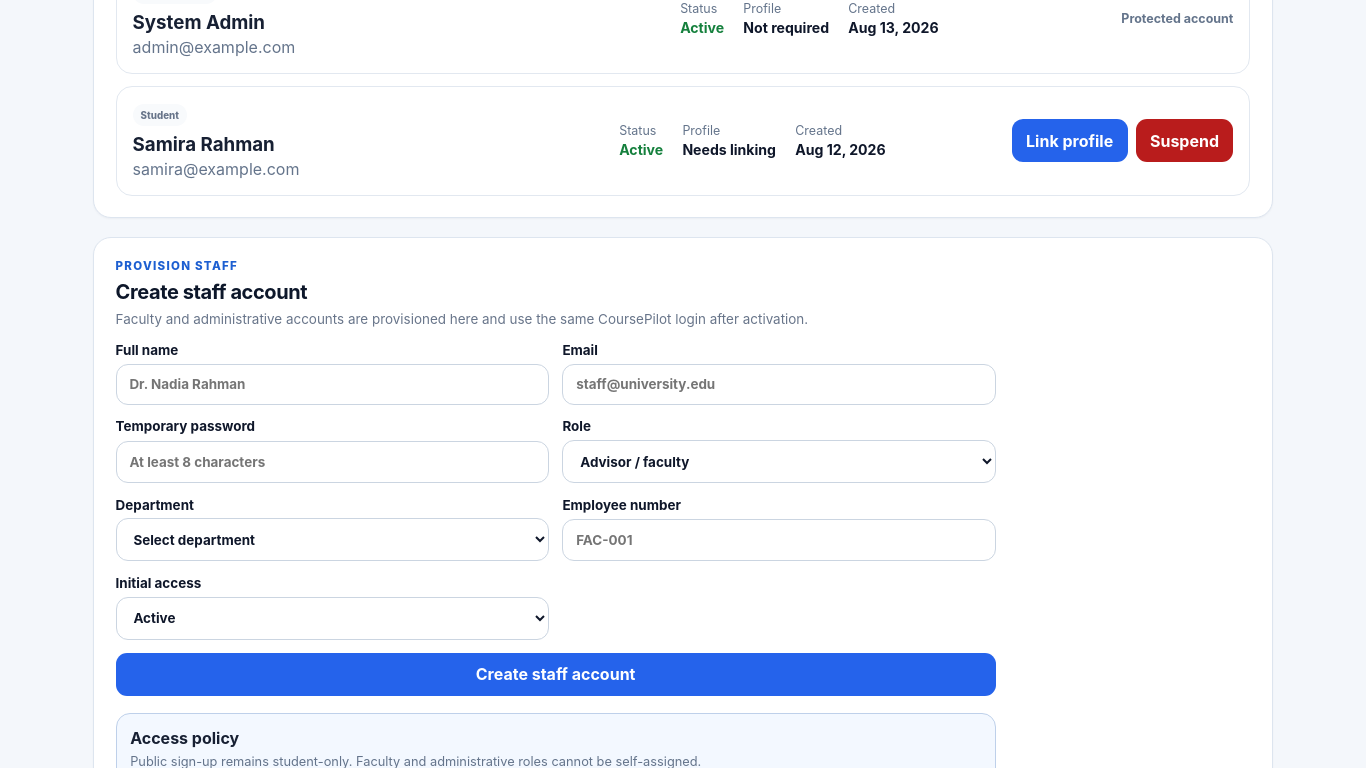
Test: AdminDashboardPage › blocks malformed staff email before provisioning
The image size is (1366, 768).
(page scrolled)
Check: the heading "Create staff account" is shown, box [116,280,307,304]
Step 1. Type "Dr. Nadia" into the field labelled "Full name" → (332, 384), box [116,364,549,405]
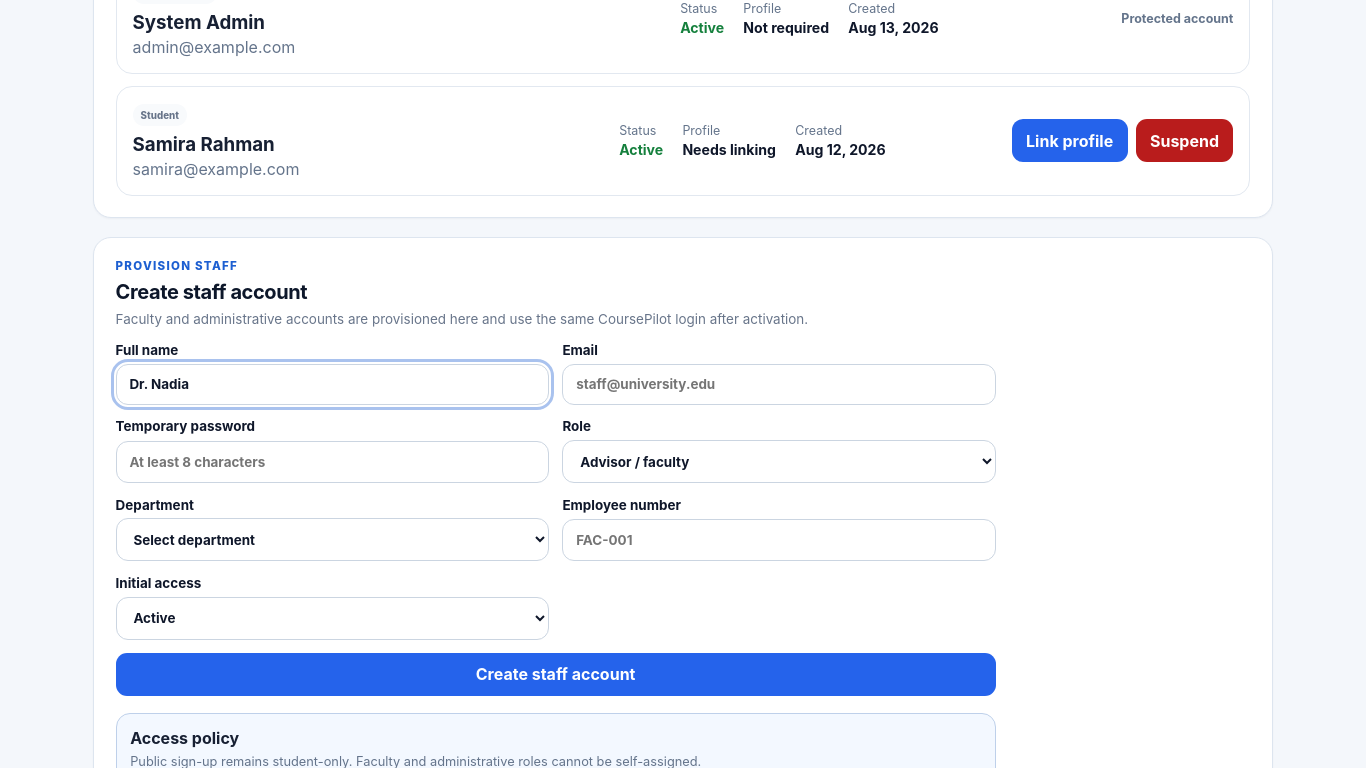
Step 2. Type "invalid-email" into the field labelled "Email" → (779, 384), box [562,364,996,405]
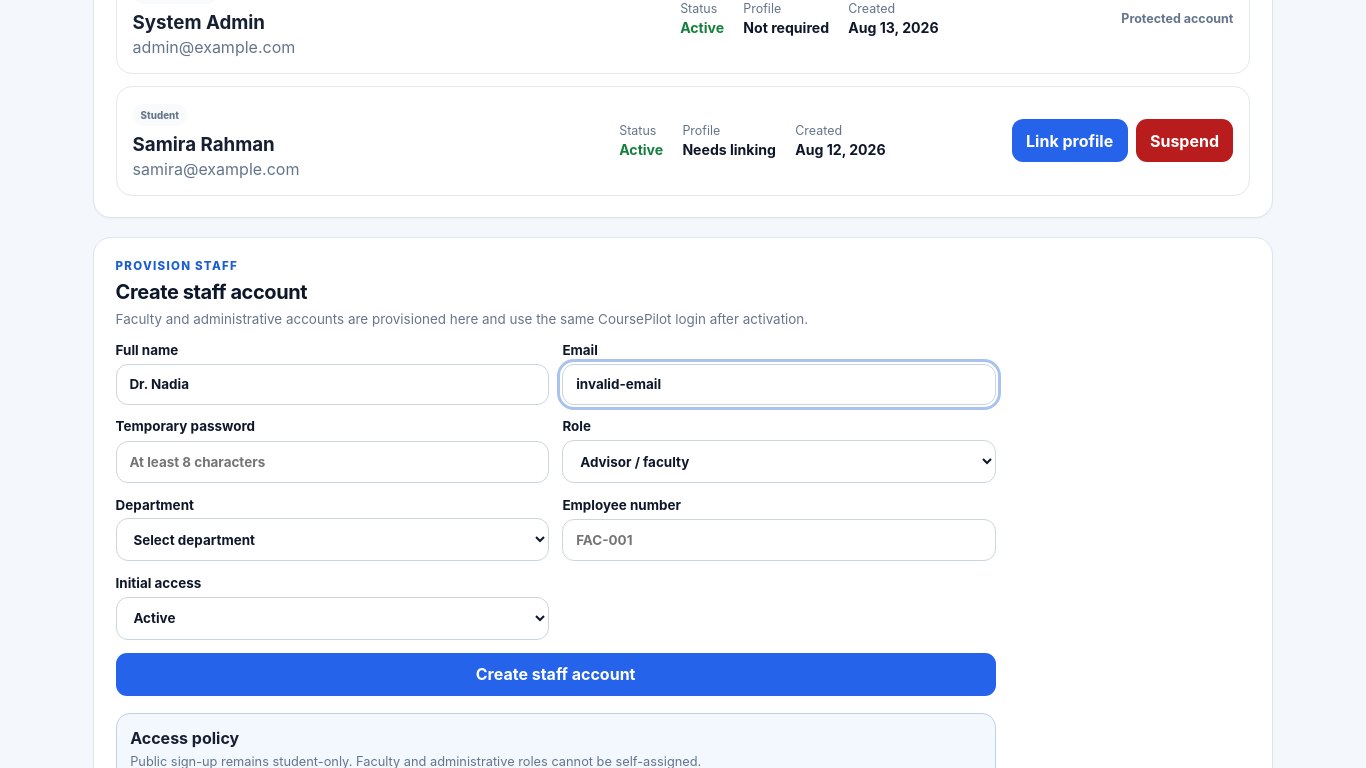
Step 3. Type "TemporaryPass123!" into the password field labelled "Temporary password" → (332, 462), box [116,441,549,483]
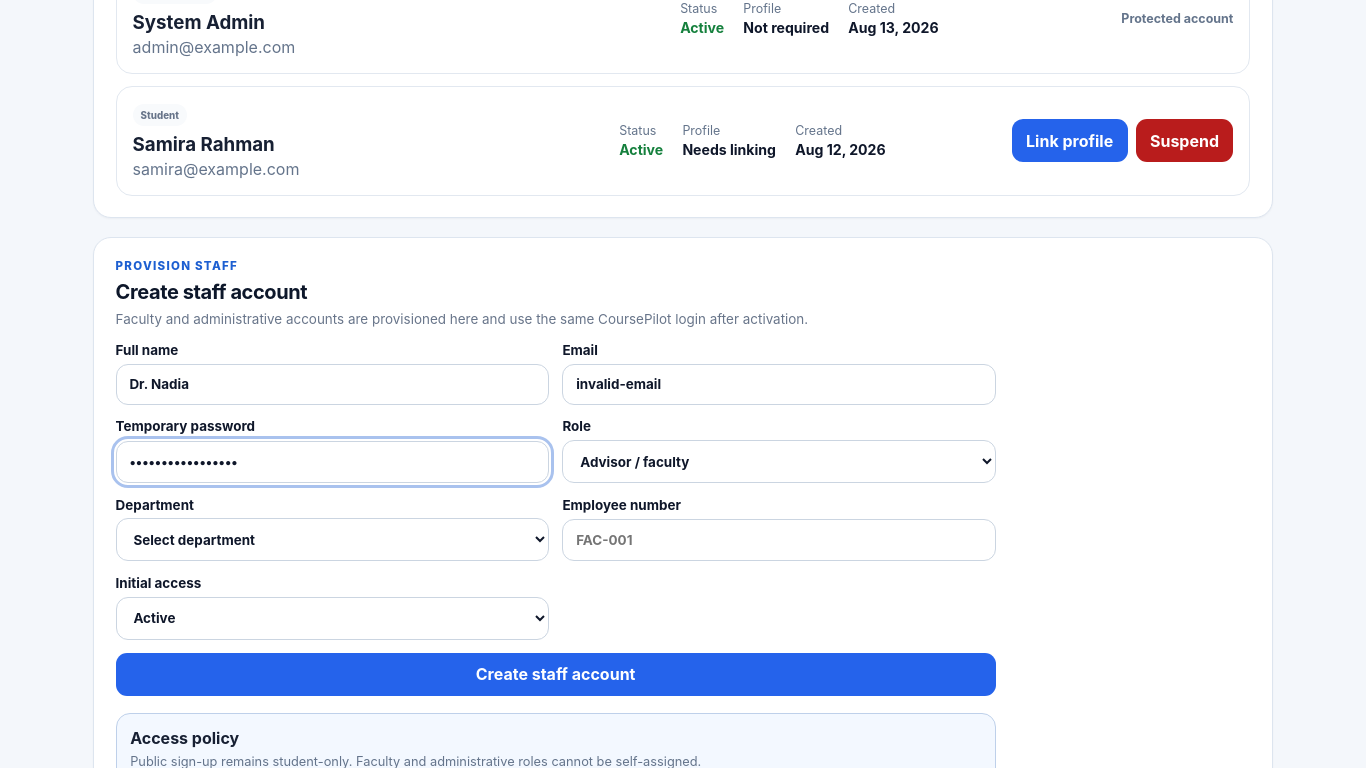
Step 4. Click the button "Create staff account" → (556, 674), box [116,653,996,696]
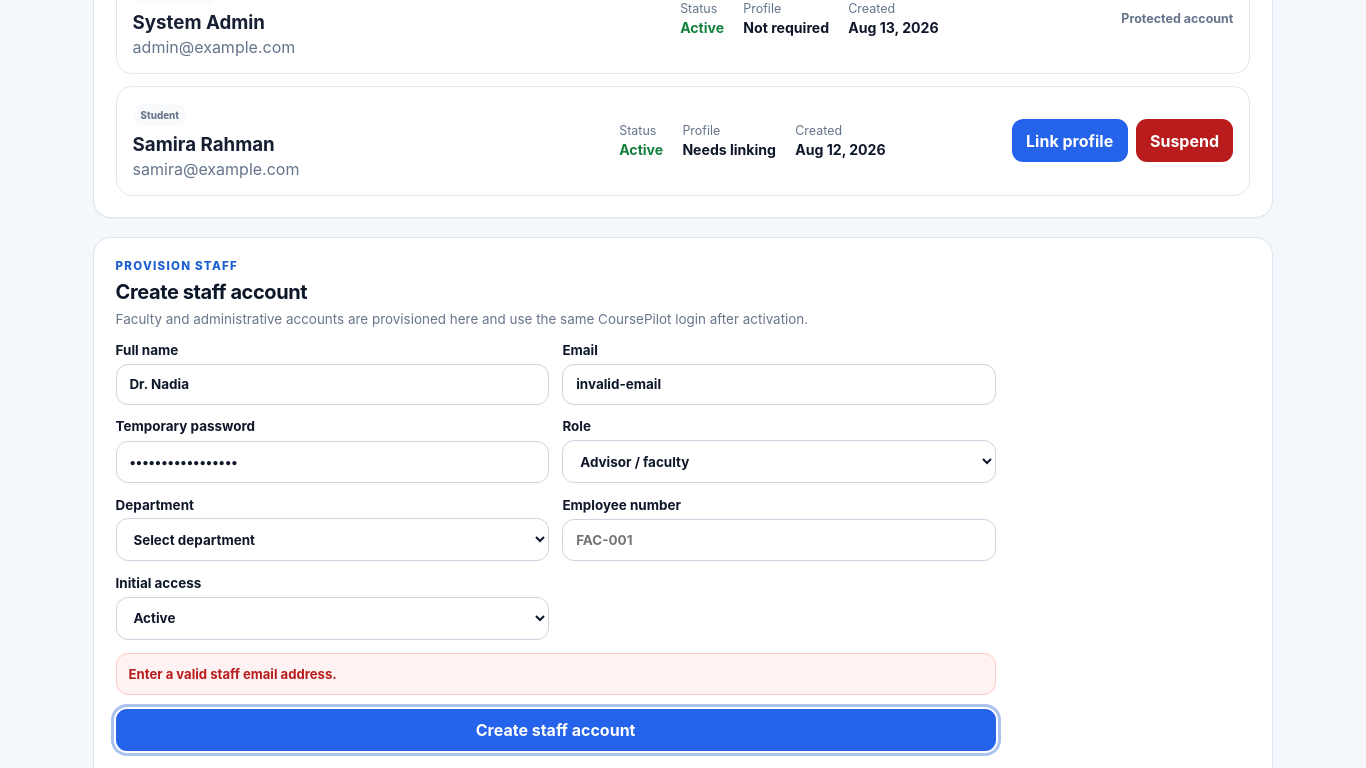
Check: the text "Enter a valid staff email address." is shown, box [116,653,996,695]
